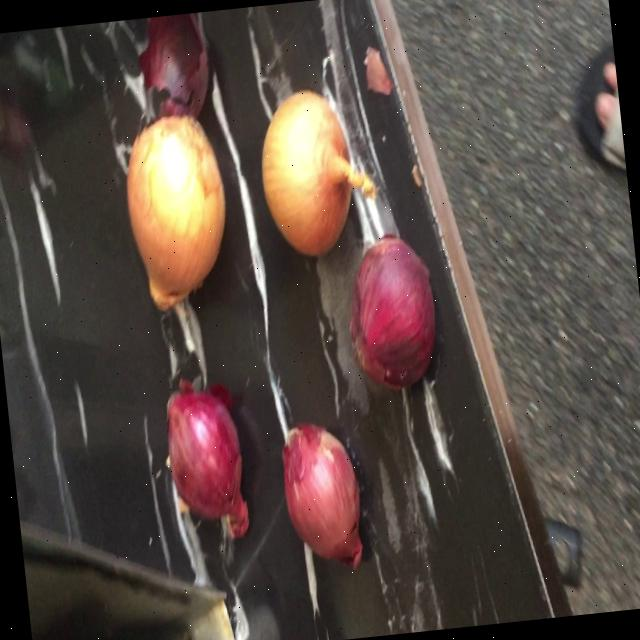Onion: (127, 114, 225, 309), (261, 89, 375, 255), (350, 234, 435, 389), (166, 380, 248, 538), (282, 423, 362, 568)
